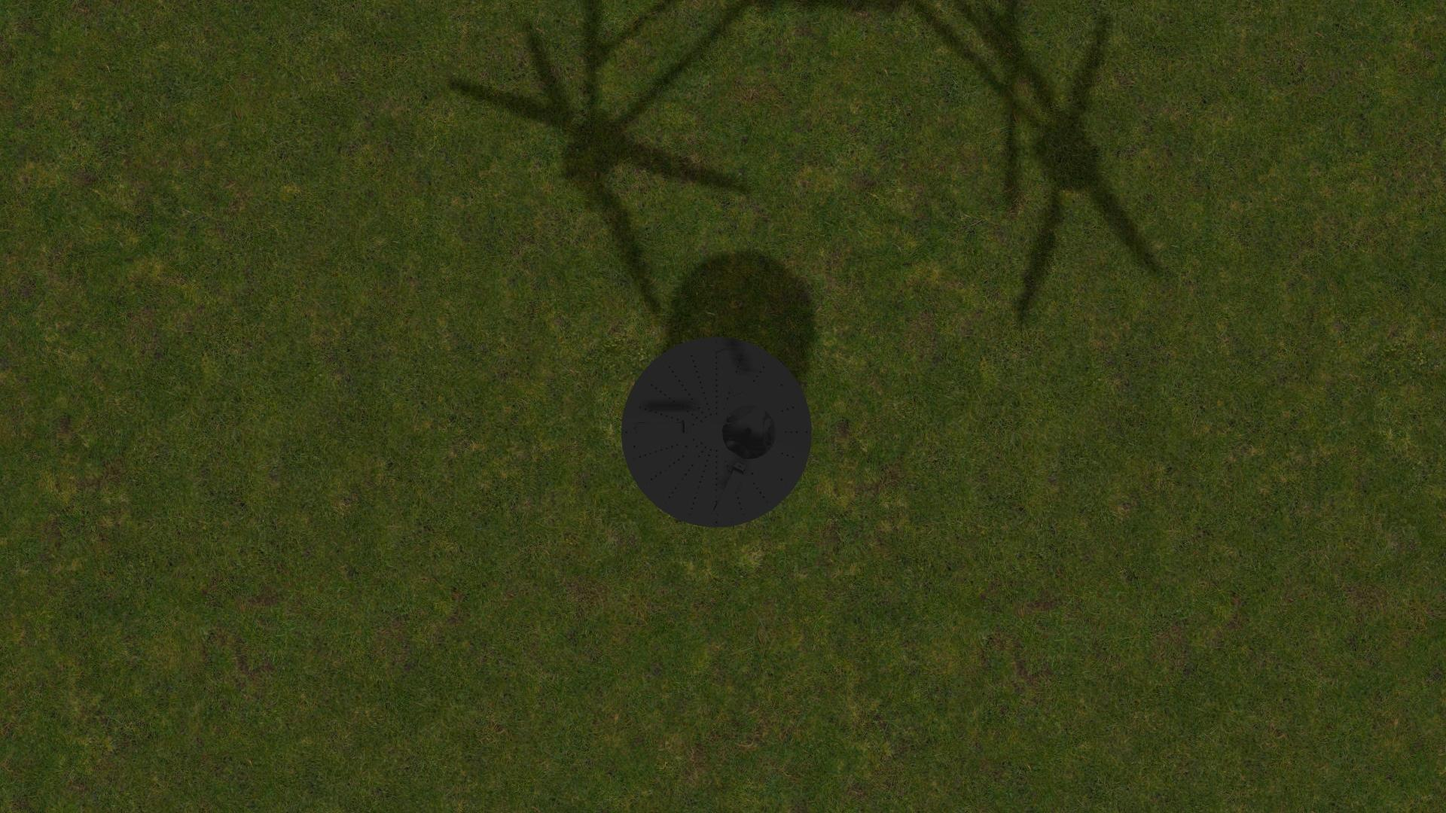alca: (710, 461, 746, 519), (713, 344, 747, 400), (631, 422, 691, 435)
armadilha: (621, 337, 812, 528)
